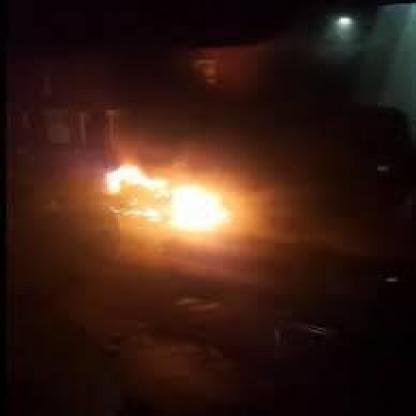fire: (80, 155, 254, 245)
